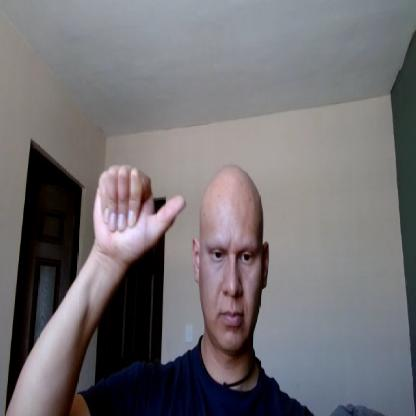A: (94, 164, 188, 264)
